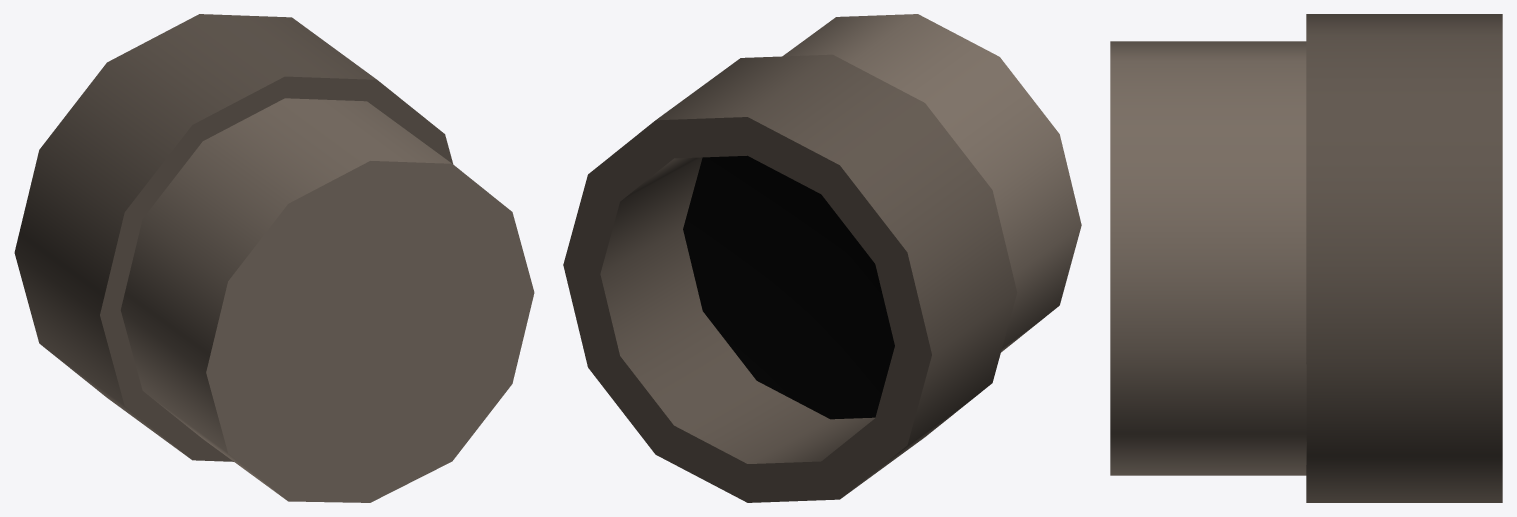
The model's file is pipe1.fbx.
3 renders of one model, left to right at view 1: azimuth 30°, elevation 25°; view 2: azimuth 150°, elevation 25°; view 3: azimuth 270°, elevation 25°, orthographic. The views are drawn at different scales.
Parts seen in each view (by area): view 1: pipe1; view 2: pipe1; view 3: pipe1.
Part boxes in pixels (x1=…): pipe1: x1=14, y1=14, x2=534, y2=502; pipe1: x1=563, y1=14, x2=1081, y2=502; pipe1: x1=1110, y1=14, x2=1502, y2=502.
Size of the model in its own units: 238 by 238 by 191.
